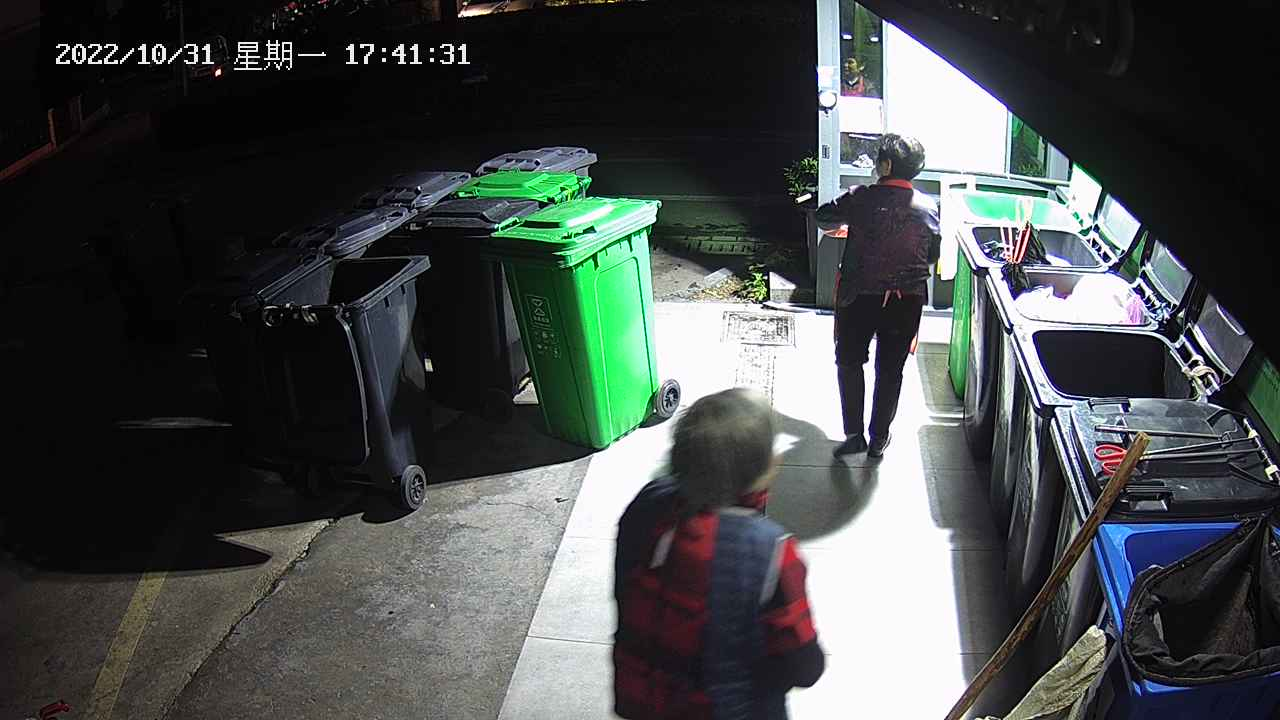person: (609, 384, 828, 720), (814, 131, 943, 461)
